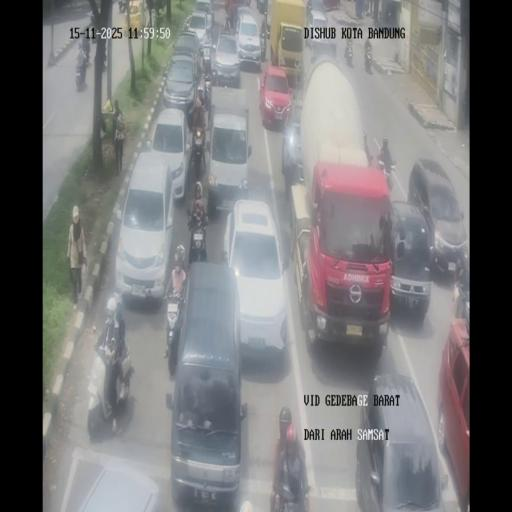3: (301, 160, 395, 354), (206, 87, 252, 215), (288, 186, 312, 316), (270, 0, 306, 82)
car: (167, 264, 246, 505), (355, 374, 444, 508), (222, 198, 287, 361), (410, 161, 469, 277), (56, 448, 160, 510), (438, 312, 469, 508), (148, 106, 192, 199), (163, 53, 200, 122), (259, 63, 292, 130), (281, 109, 303, 190), (212, 32, 242, 87), (235, 14, 262, 70), (305, 8, 332, 56), (185, 10, 211, 52), (122, 0, 146, 34)
truck: (87, 325, 133, 438), (270, 457, 310, 511), (163, 279, 187, 365), (186, 208, 208, 264), (454, 247, 470, 302), (190, 128, 206, 179), (378, 152, 394, 190), (202, 37, 213, 74), (202, 67, 212, 107), (96, 109, 108, 142), (260, 15, 268, 58), (152, 0, 166, 24), (98, 37, 107, 71), (74, 62, 84, 90), (82, 32, 90, 65), (364, 46, 372, 74), (344, 43, 353, 66), (86, 8, 95, 28), (223, 16, 232, 35), (144, 3, 150, 29), (118, 0, 126, 13)
